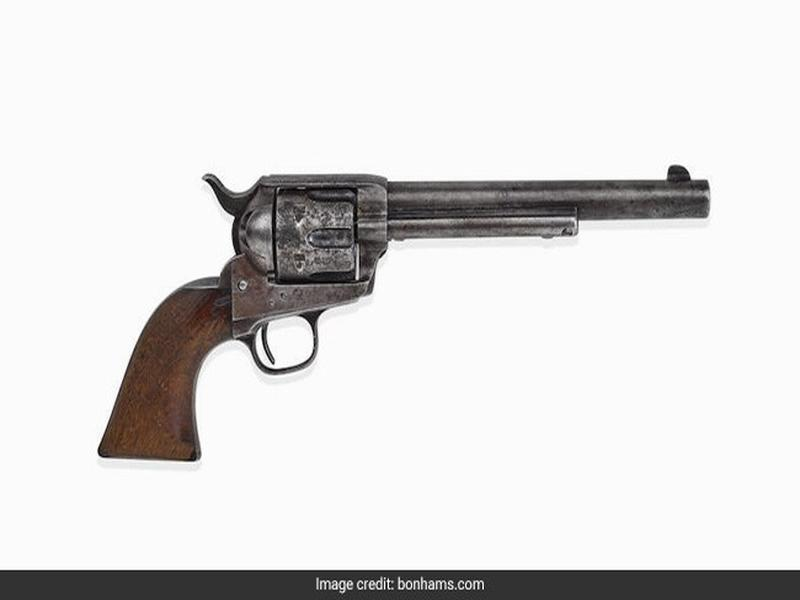GUN: (90, 164, 715, 464)
